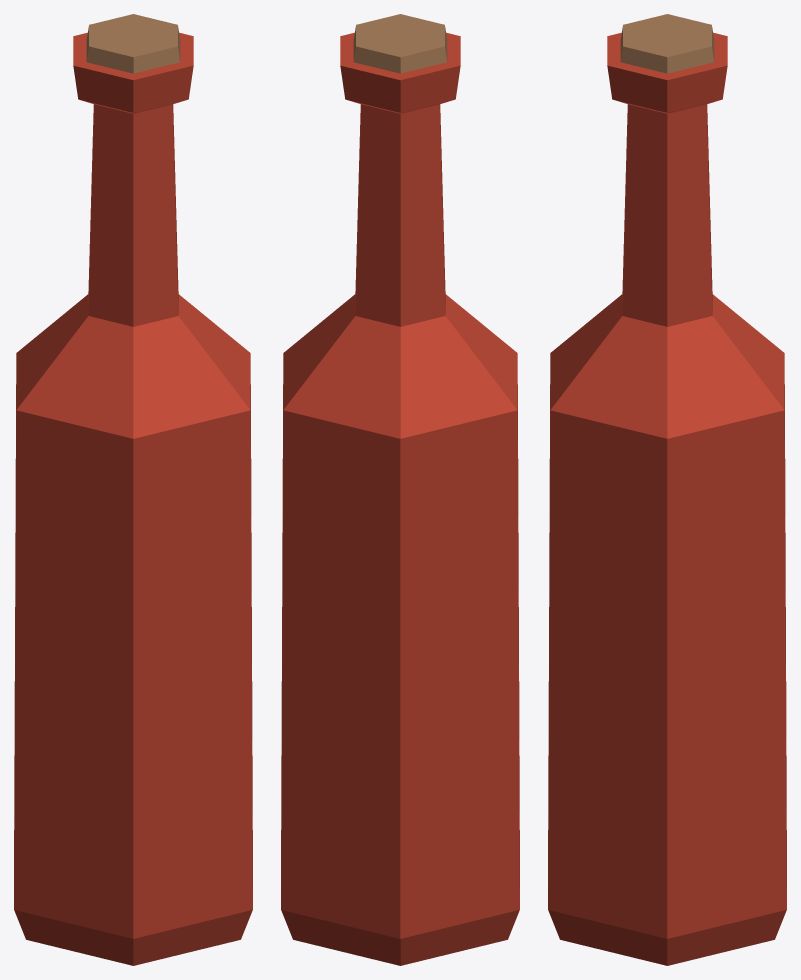
The model's file is potion_14.glb.
3 renders of one model, left to right at view 1: azimuth 30°, elevation 25°; view 2: azimuth 150°, elevation 25°; view 3: azimuth 270°, elevation 25°, orthographic.
Parts seen in each view (by area): view 1: potion_14; view 2: potion_14; view 3: potion_14.
Boxes of the visible parts, x1=… form: potion_14: x1=14, y1=14, x2=252, y2=965; potion_14: x1=281, y1=14, x2=519, y2=965; potion_14: x1=548, y1=14, x2=786, y2=965.
Size of the model in its own units: 0.132 by 0.4635 by 0.1143.
2 materials, 2 textured.
